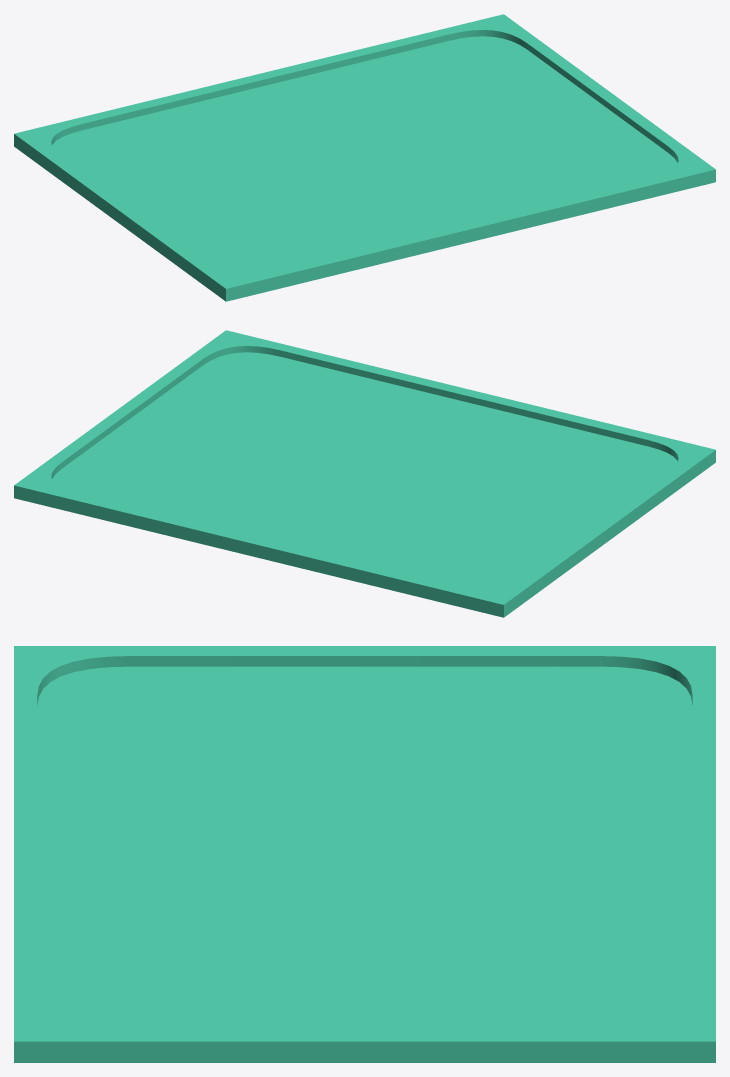
File: Floor_4x3m_B.FBX
3 renders of one model, top to bottom at view 1: azimuth 30°, elevation 25°; view 2: azimuth 150°, elevation 25°; view 3: azimuth 270°, elevation 25°, orthographic. The views are drawn at different scales.
Visible parts, largest first — view 1: Floor_4x3m_B; view 2: Floor_4x3m_B; view 3: Floor_4x3m_B.
Part boxes in pixels (x1,y1,x2,y2): Floor_4x3m_B: (14,14,715,301); Floor_4x3m_B: (14,330,715,617); Floor_4x3m_B: (14,646,715,1062).
Bounding box in the file's own units: 400 × 10 × 300.
